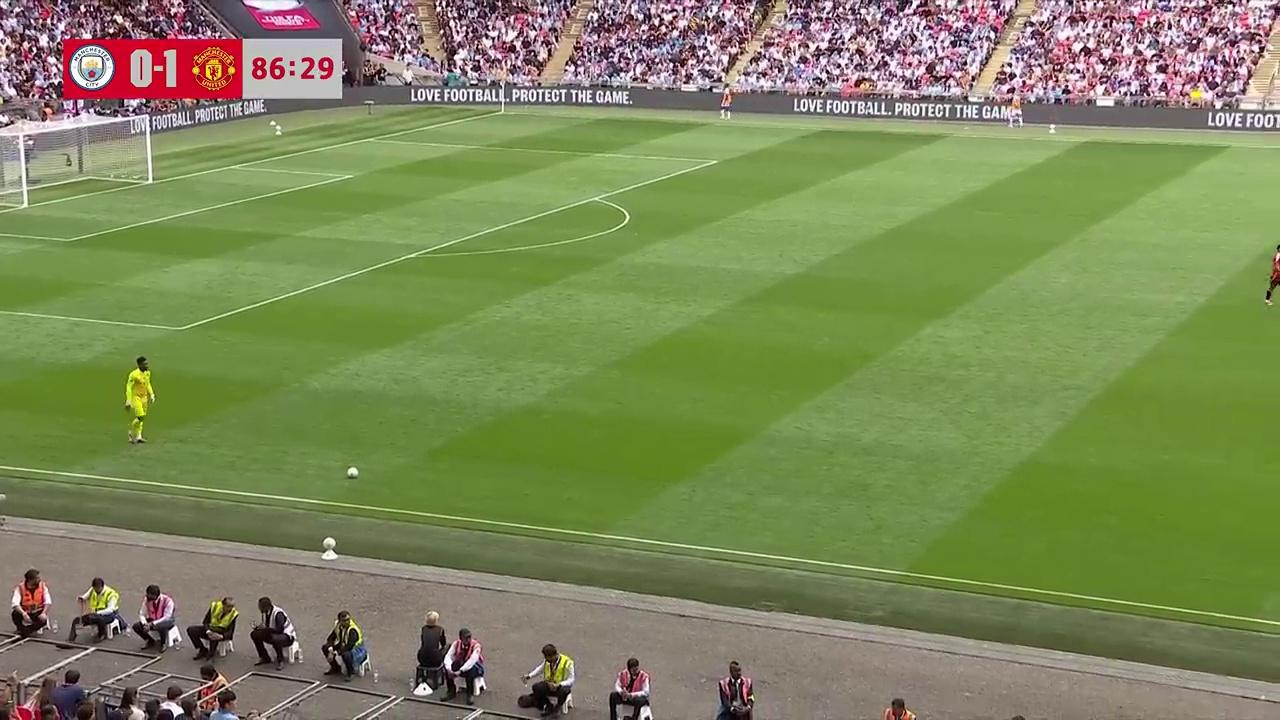ball: (343, 463, 361, 479)
player: (124, 355, 154, 444), (1264, 244, 1280, 307)
